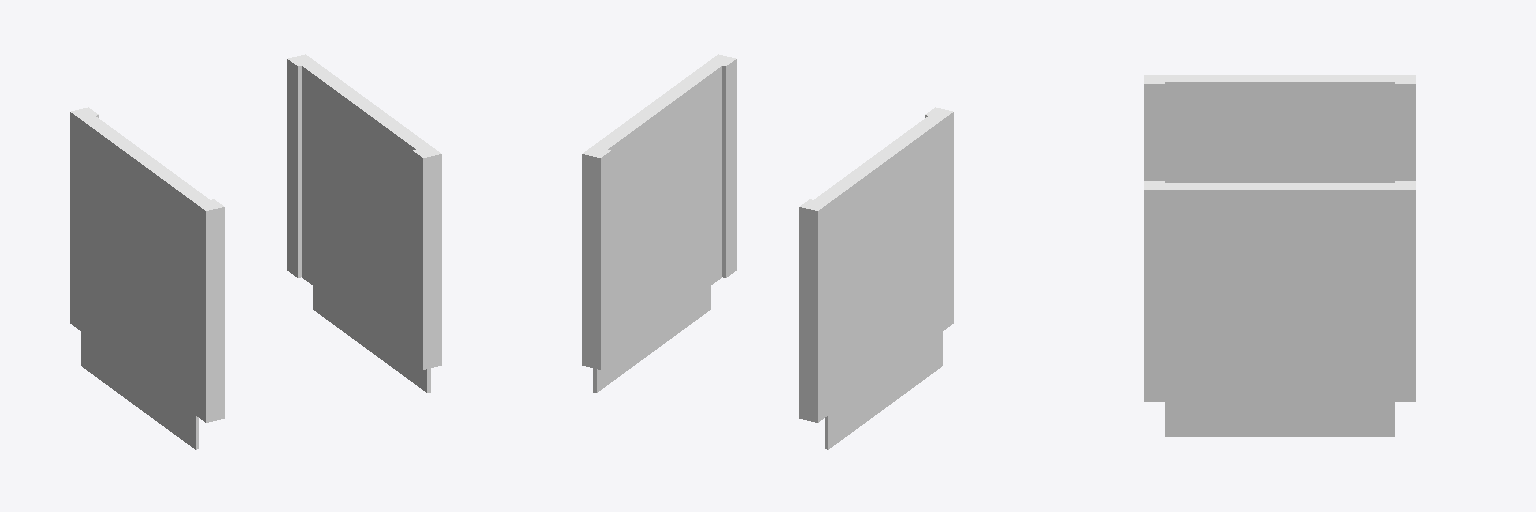
Rendered from Wall-0101.obj.
The picture shows the model from 3 angles: view 1: azimuth 30°, elevation 25°; view 2: azimuth 150°, elevation 25°; view 3: azimuth 270°, elevation 25°; orthographic projection.
Size of the model in its own units: 64 by 64 by 64.